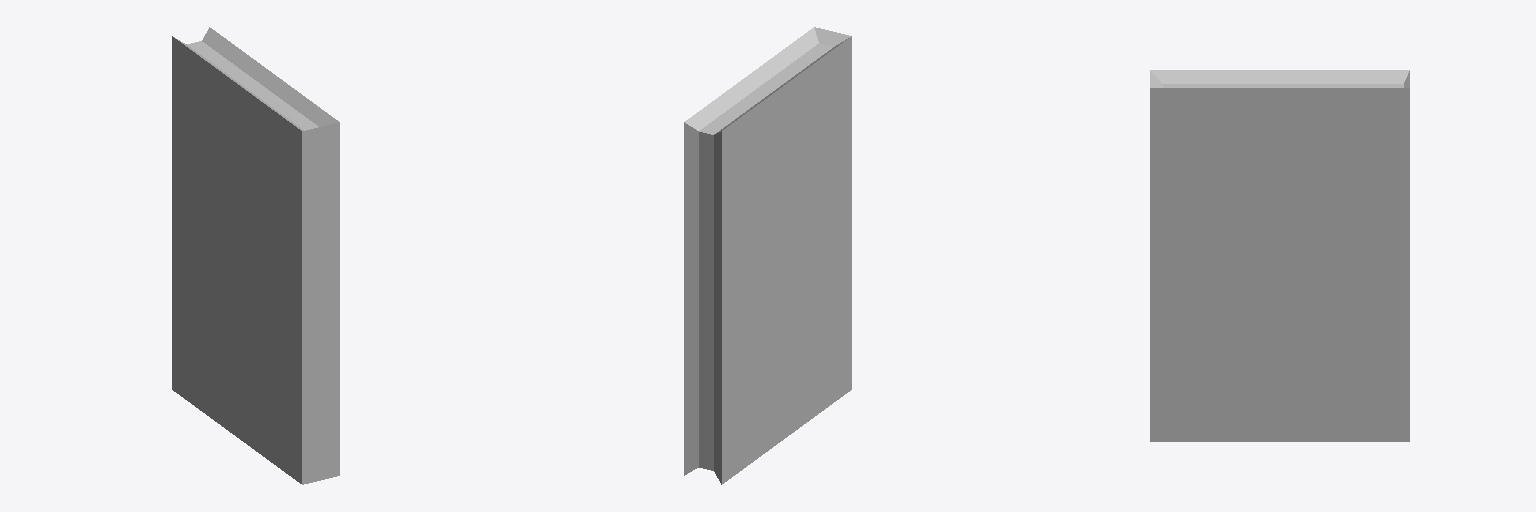
File: clutter_book_02.obj
3 renders of one model, left to right at view 1: azimuth 30°, elevation 25°; view 2: azimuth 150°, elevation 25°; view 3: azimuth 270°, elevation 25°, orthographic.
Parts seen in each view (by area): view 1: Cube; view 2: Cube; view 3: Cube.
Part boxes in pixels (left/top/right/bottom): Cube: left=172, top=27, right=339, bottom=484; Cube: left=684, top=27, right=851, bottom=484; Cube: left=1150, top=70, right=1409, bottom=441.
Bounding box in the file's own units: 0.1 × 0.9 × 0.6.